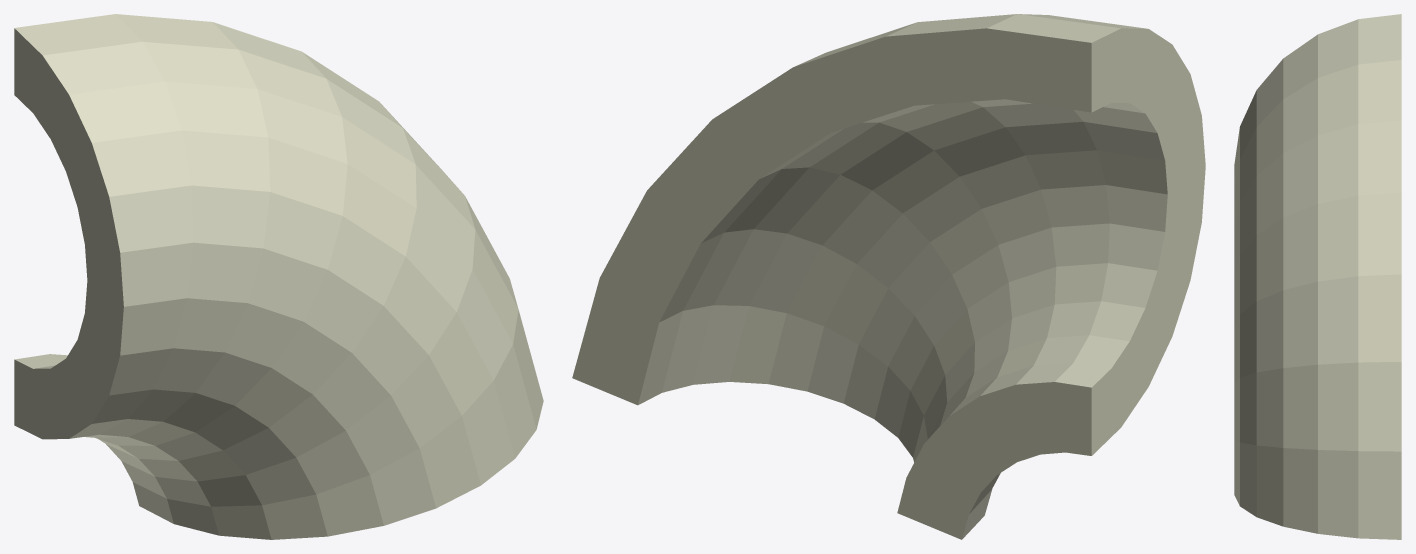
File: section_351.obj
3 views of the same model, side by side, from view 1: azimuth 30°, elevation 25°; view 2: azimuth 150°, elevation 25°; view 3: azimuth 270°, elevation 25° (orthographic). The views are drawn at different scales.
Size of the model in its own units: 7.89 by 7.68 by 3.
